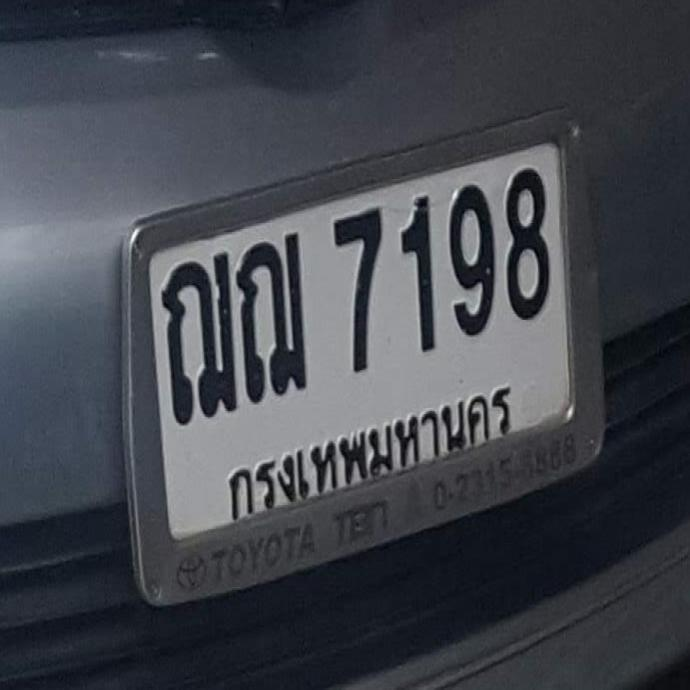1: (382, 190, 458, 361)
7: (316, 203, 411, 378)
8: (487, 162, 571, 333)
9: (430, 177, 518, 346)
A12: (162, 253, 236, 425), (237, 235, 306, 403)
BKK: (228, 385, 512, 520)
